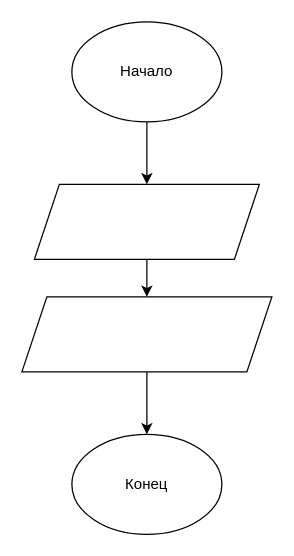
Image size: 294x556. Some labels were removed from this diagram. Each missing label, with the centre of its shape:
"sum = (a+b+c+d) /n" goes at point 146,334.
"sum = 0 a,b,c,d - введите числа n - кол-во введеных чисел" goes at point 146,221.
